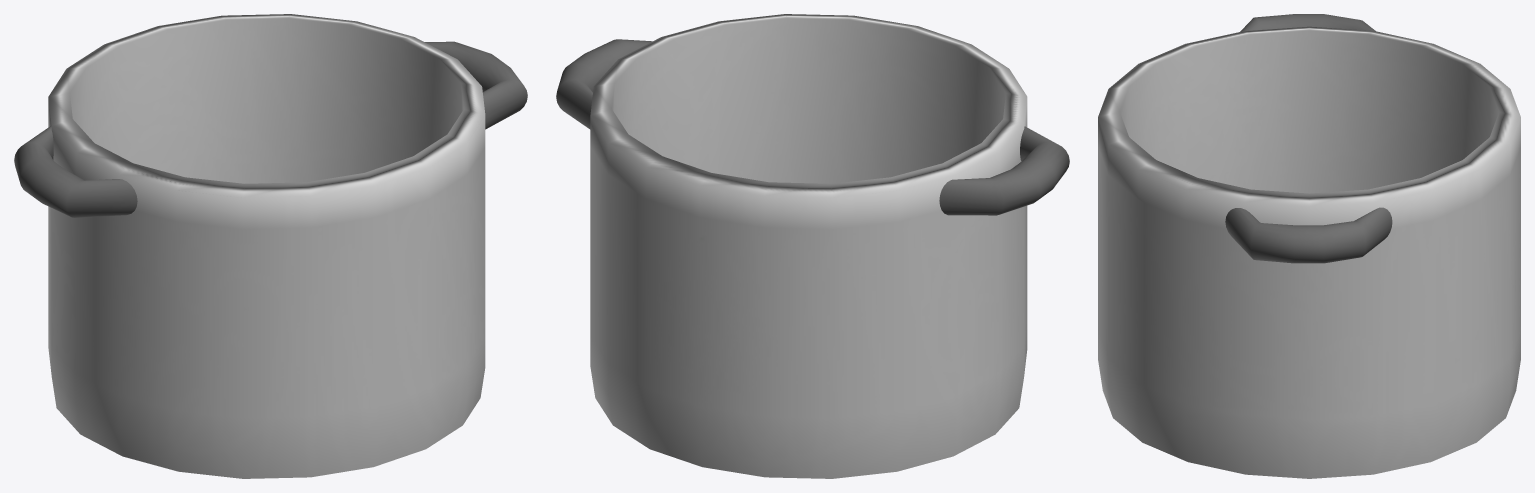
The model's file is cookingpot.fbx.
3 views of the same model, side by side, from view 1: azimuth 30°, elevation 25°; view 2: azimuth 150°, elevation 25°; view 3: azimuth 270°, elevation 25° (orthographic). The views are drawn at different scales.
Visible parts, largest first — view 1: pCylinder4; view 2: pCylinder4; view 3: pCylinder4.
Boxes of the visible parts, box(x1,y1,x2,y2) form: pCylinder4: box(14, 14, 527, 478); pCylinder4: box(556, 14, 1069, 478); pCylinder4: box(1098, 14, 1520, 478).
Bounding box in the file's own units: 10.72 × 6.15 × 8.46.
Materials: 1 (1 with a texture image).
